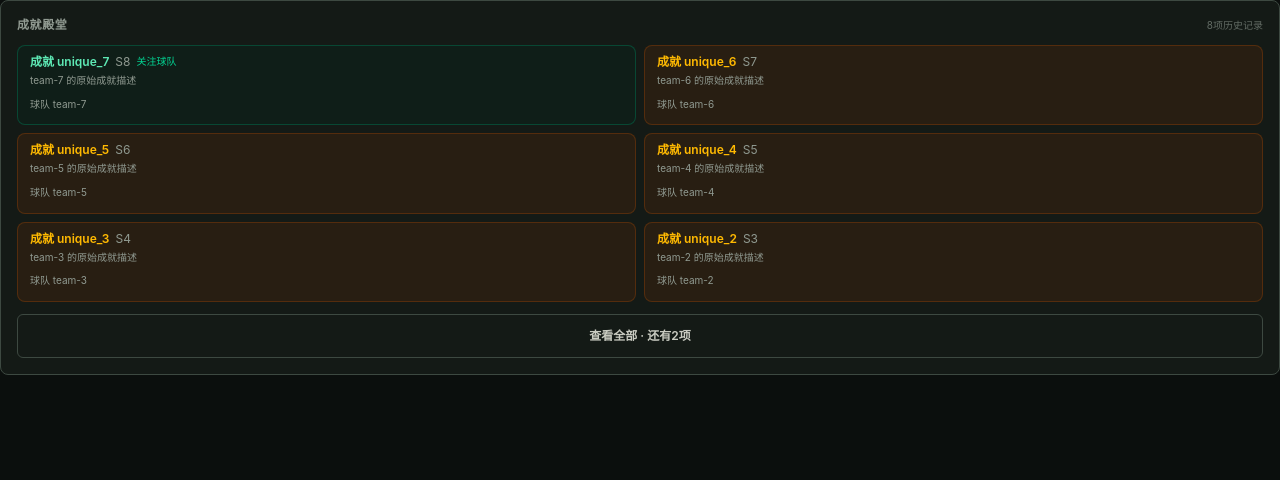
AchievementHall › shows no more than six items before view-all and keeps followed achievements visible
This screenshot has width=1280, height=480.
Expected: the number of elements with test id "achievement-card" is 6, [17,45,636,125]; [644,45,1263,125]; [17,133,636,214]; [644,133,1263,214]; [17,222,636,302]; [644,222,1263,302]
Expected: the element with test id "achievement-card" shows "成就 unique_7", [30,54,109,69]
Click the button with test id "toggle-all-achievements" at (640, 336), box [17,314,1263,358]
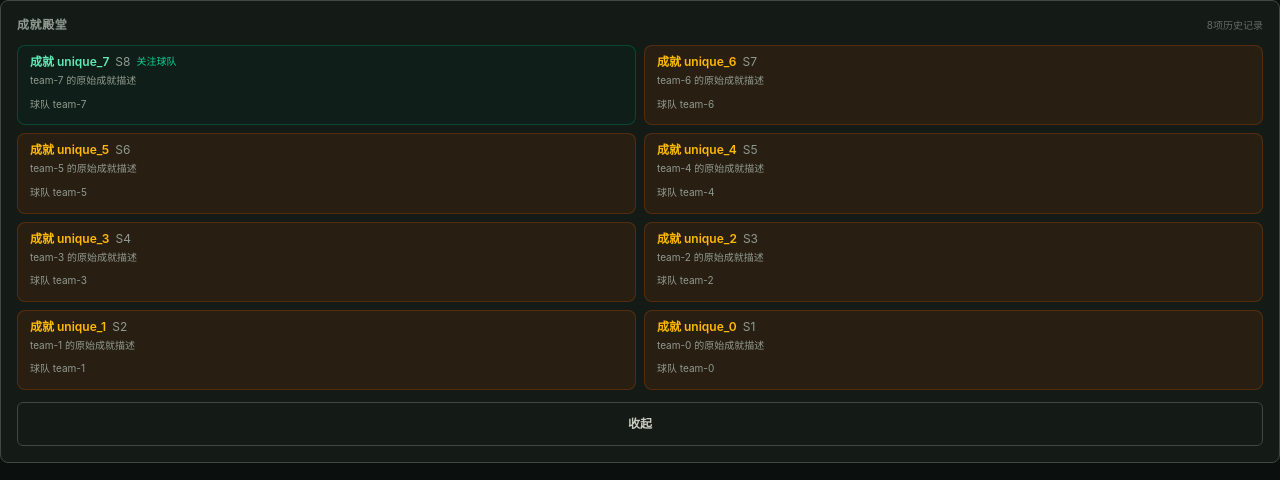
Expected: the button with test id "toggle-all-achievements" is expanded, [17,402,1263,446]
Expected: the number of elements with test id "achievement-card" is 8
